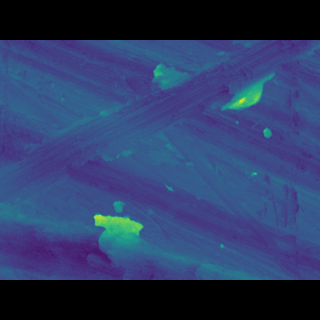Loch: (0, 70, 320, 195)
